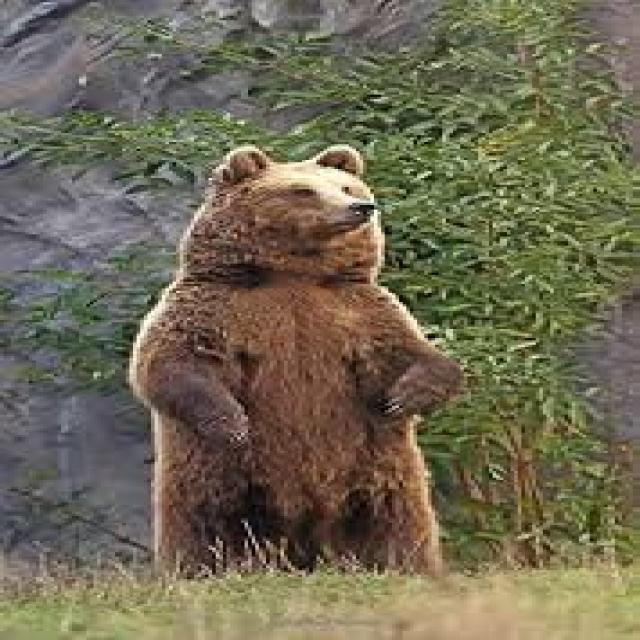bear: (126, 145, 484, 590)
